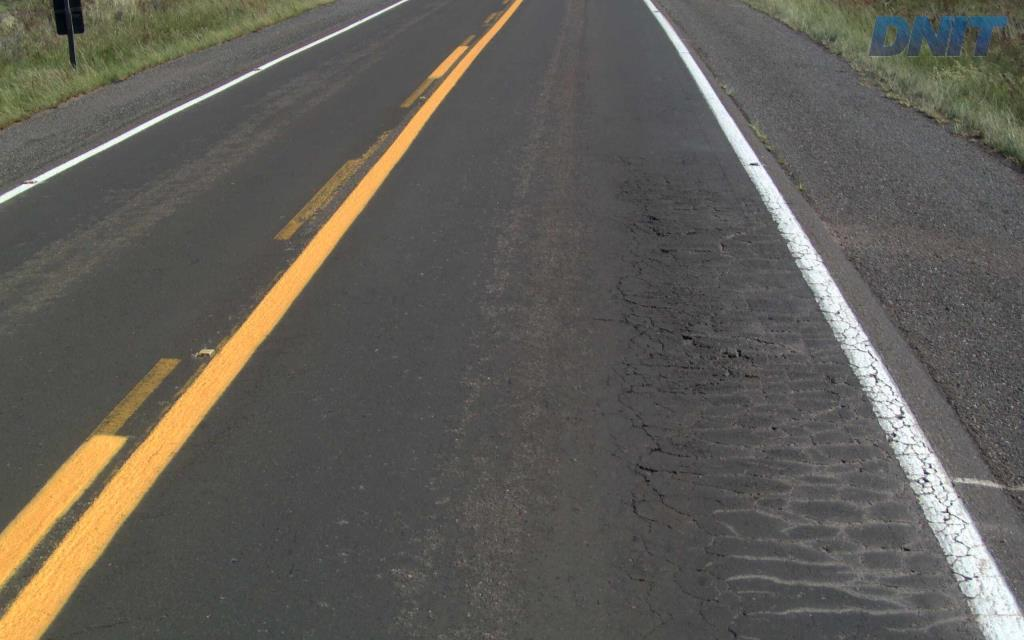crack: (671, 321, 716, 365)
